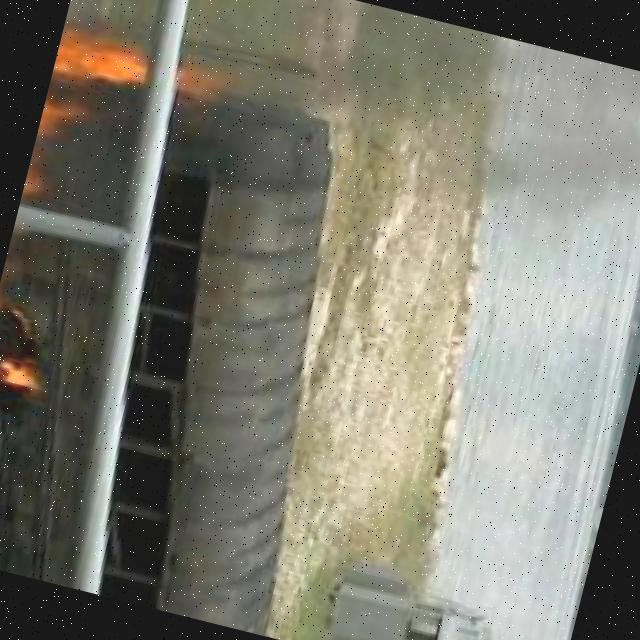fire: (28, 26, 159, 195), (0, 279, 58, 447), (172, 52, 234, 109)
